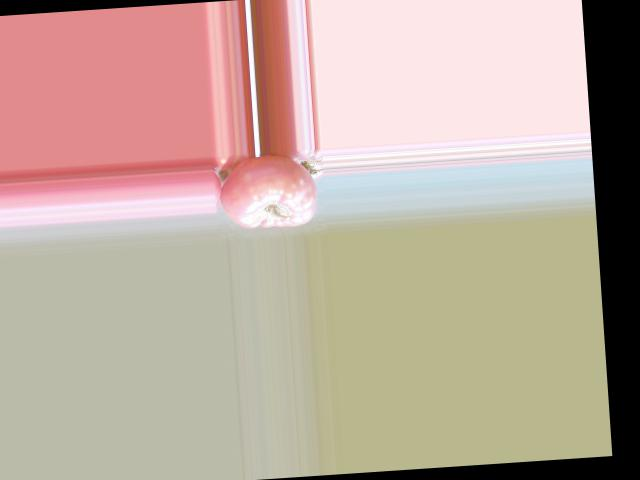tomato: (216, 152, 318, 230)
